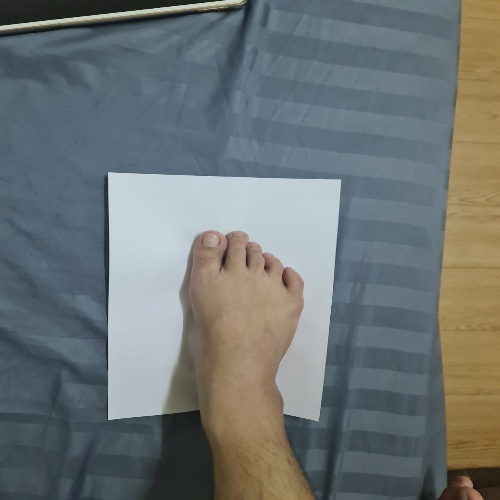Top_Foot: (87, 159, 352, 439)
